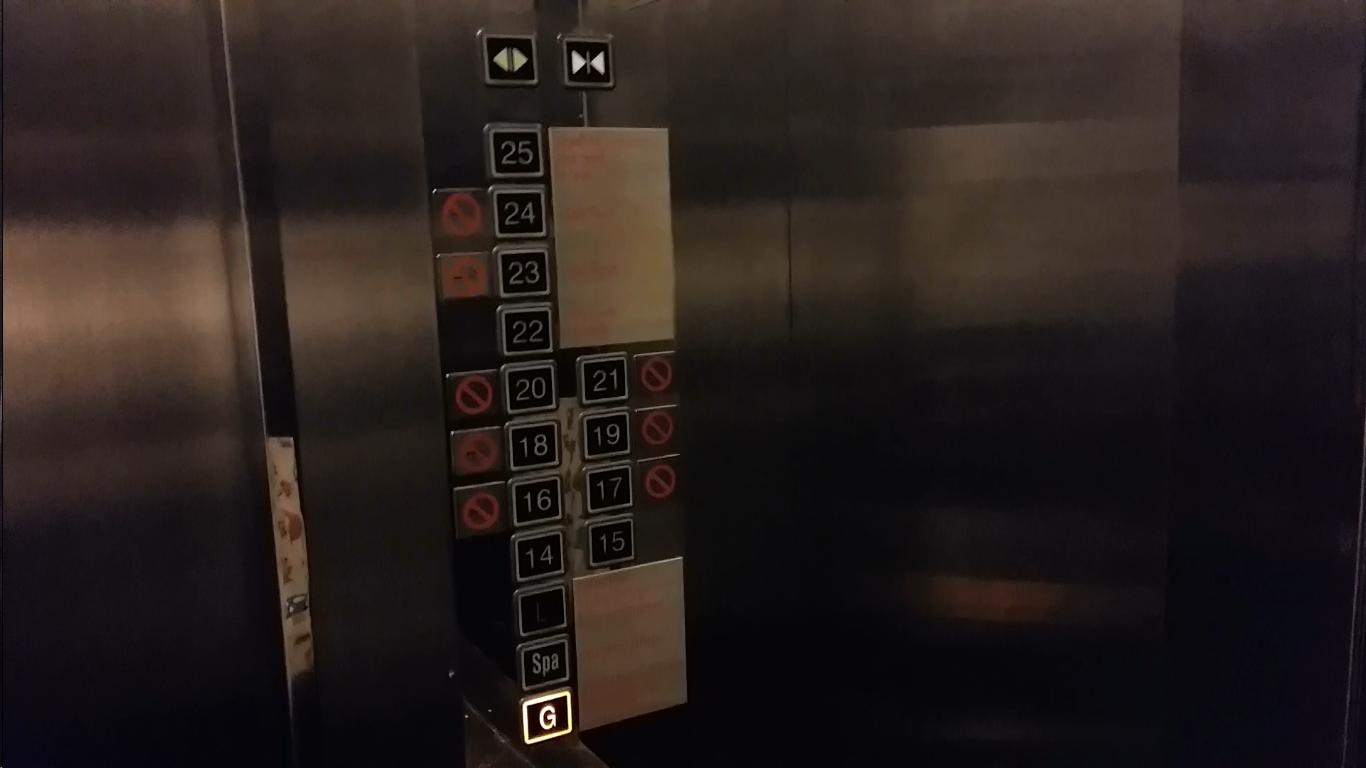14: (510, 528, 565, 581)
15: (582, 515, 637, 568)
16: (507, 471, 566, 526)
17: (580, 461, 635, 515)
18: (502, 415, 564, 472)
19: (576, 410, 634, 459)
20: (497, 358, 559, 415)
21: (573, 351, 632, 405)
22: (494, 300, 556, 357)
23: (492, 242, 554, 299)
24: (486, 181, 550, 240)
25: (483, 121, 547, 180)
G: (518, 690, 576, 748)
SPA: (514, 632, 573, 691)
close: (555, 30, 618, 93)
empty: (513, 581, 568, 634)
open: (476, 28, 543, 90)
